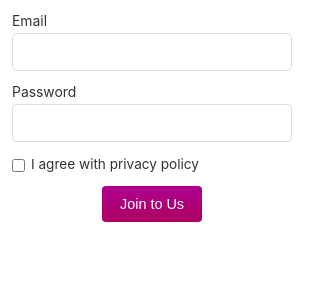
Test: shows server error
The width and height of the screenshot is (332, 293).
Type "mail@app.test" into the field labelled "Email". click: (152, 52)
box: 12,33 -> 292,71
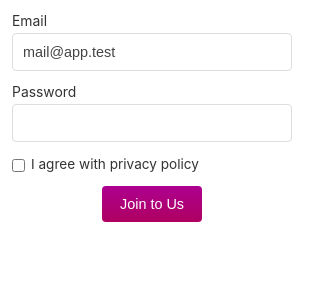
Type "password" into the password field labelled "Password". click: (152, 123)
box: 12,104 -> 292,142
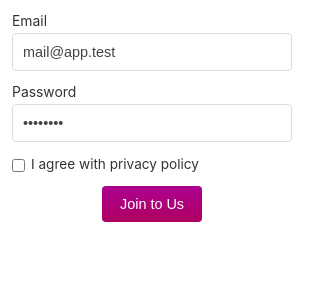
Click the checkbox labelled "I agree with privacy policy". click: (18, 165)
box: 12,159 -> 25,172
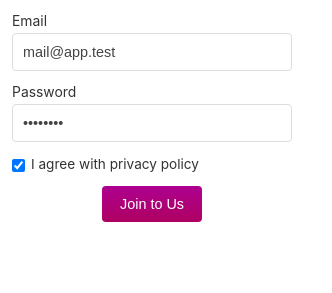
Click the button with test id "join-button". click: (152, 204)
box: 102,186 -> 202,222
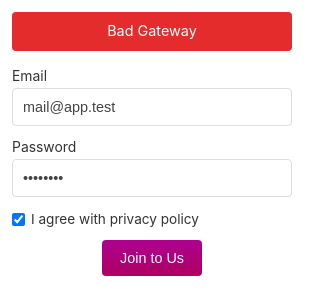
Result: the text with test id "alert-error" reads "Bad Gateway" at 107,22 -> 197,39
